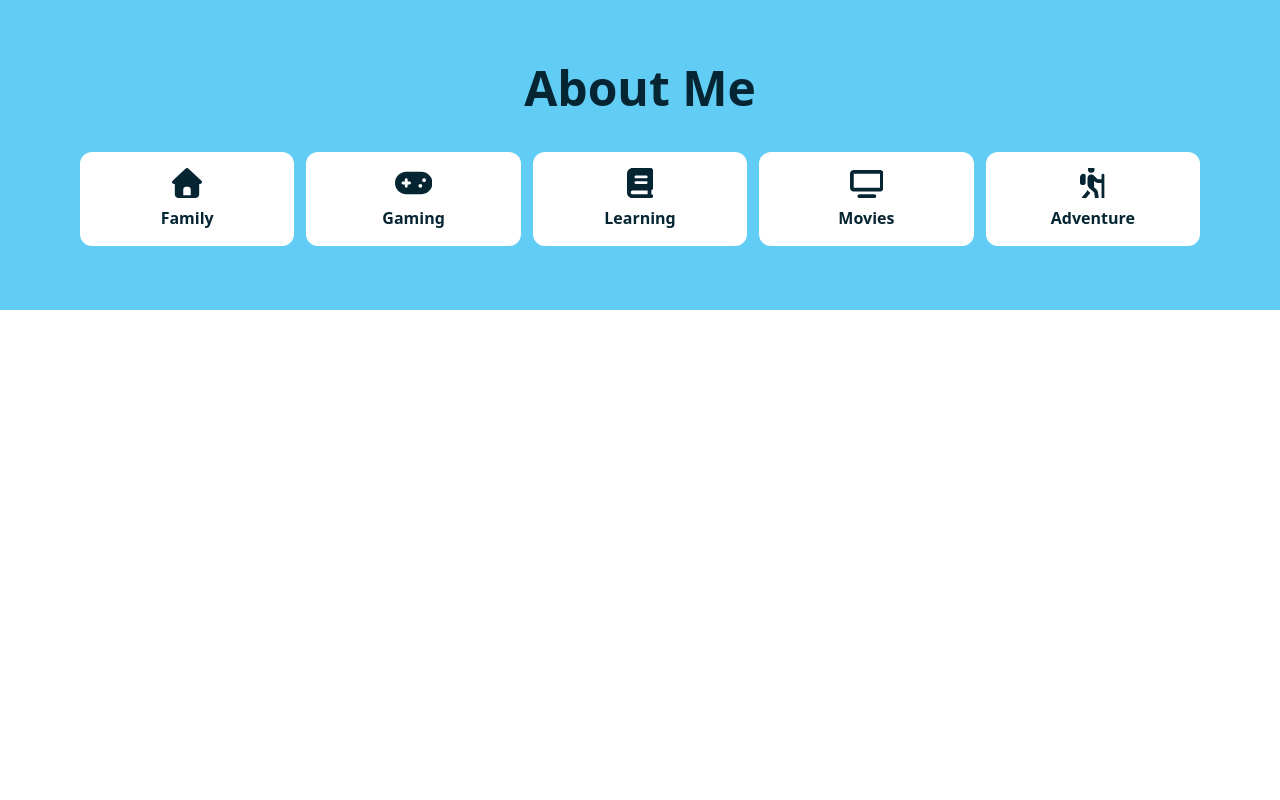
Test case: AboutMe › closes an open tile when it is clicked again, keeping its photo
The width and height of the screenshot is (1280, 800).
Click the button "Gaming" at (414, 199), box 306,152 -> 521,246
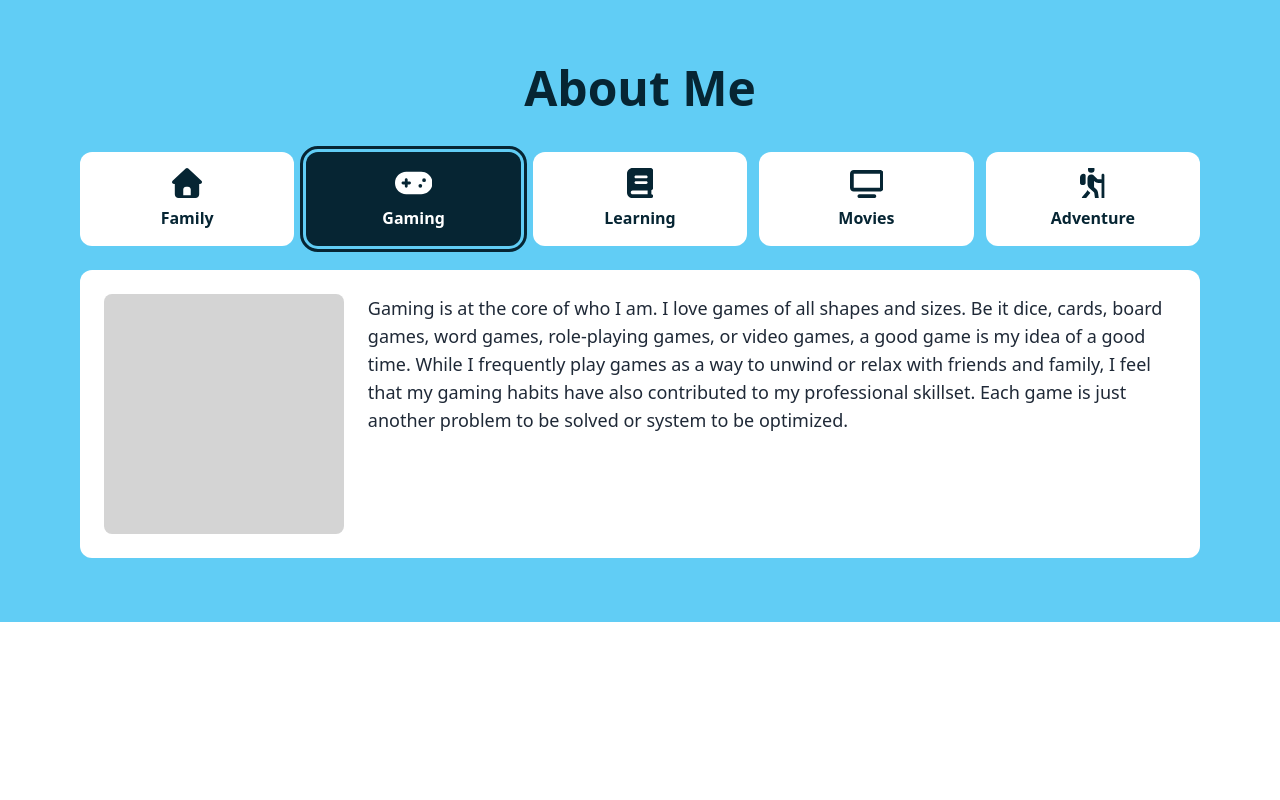
Click the button "Gaming" at (414, 199), box 306,152 -> 521,246
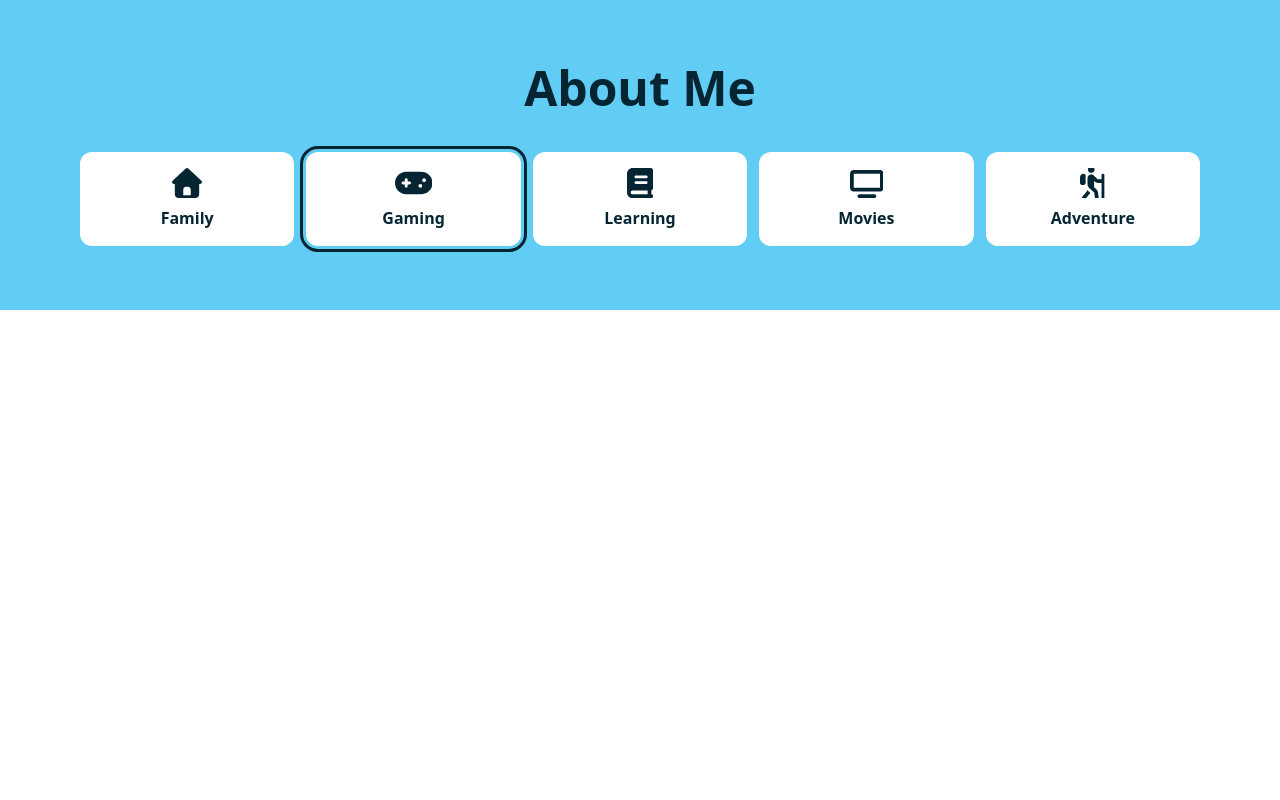
expect the button "Gaming" is collapsed: met, box 306,152 -> 521,246
